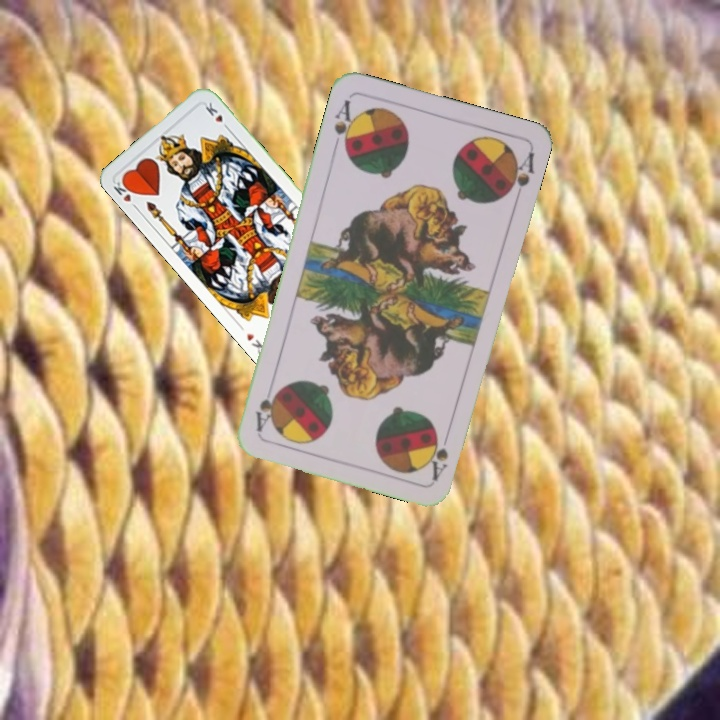HK: (109, 175, 141, 212)
SA: (330, 95, 359, 155), (425, 429, 451, 483)
